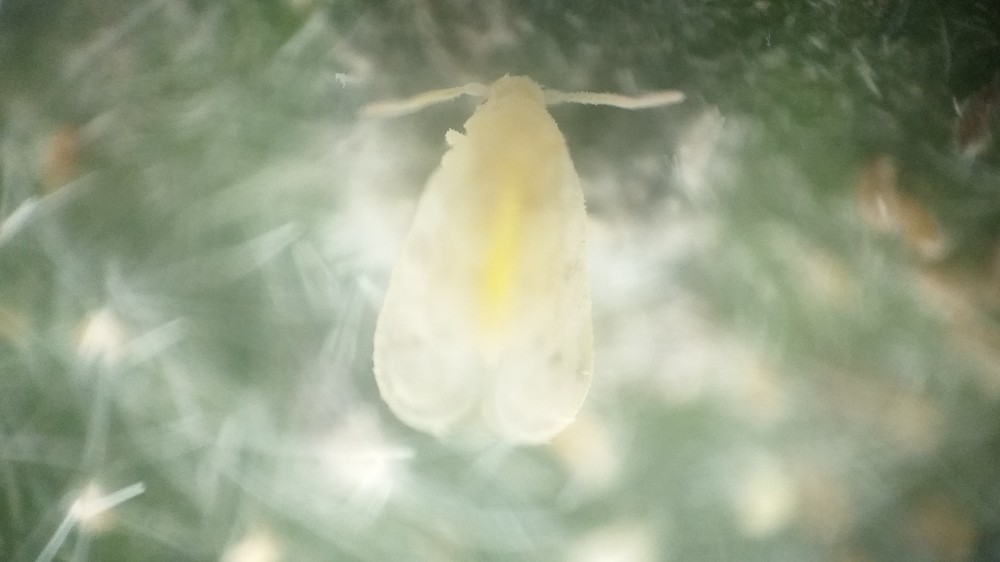Mosca Blanca: (313, 60, 717, 461)
